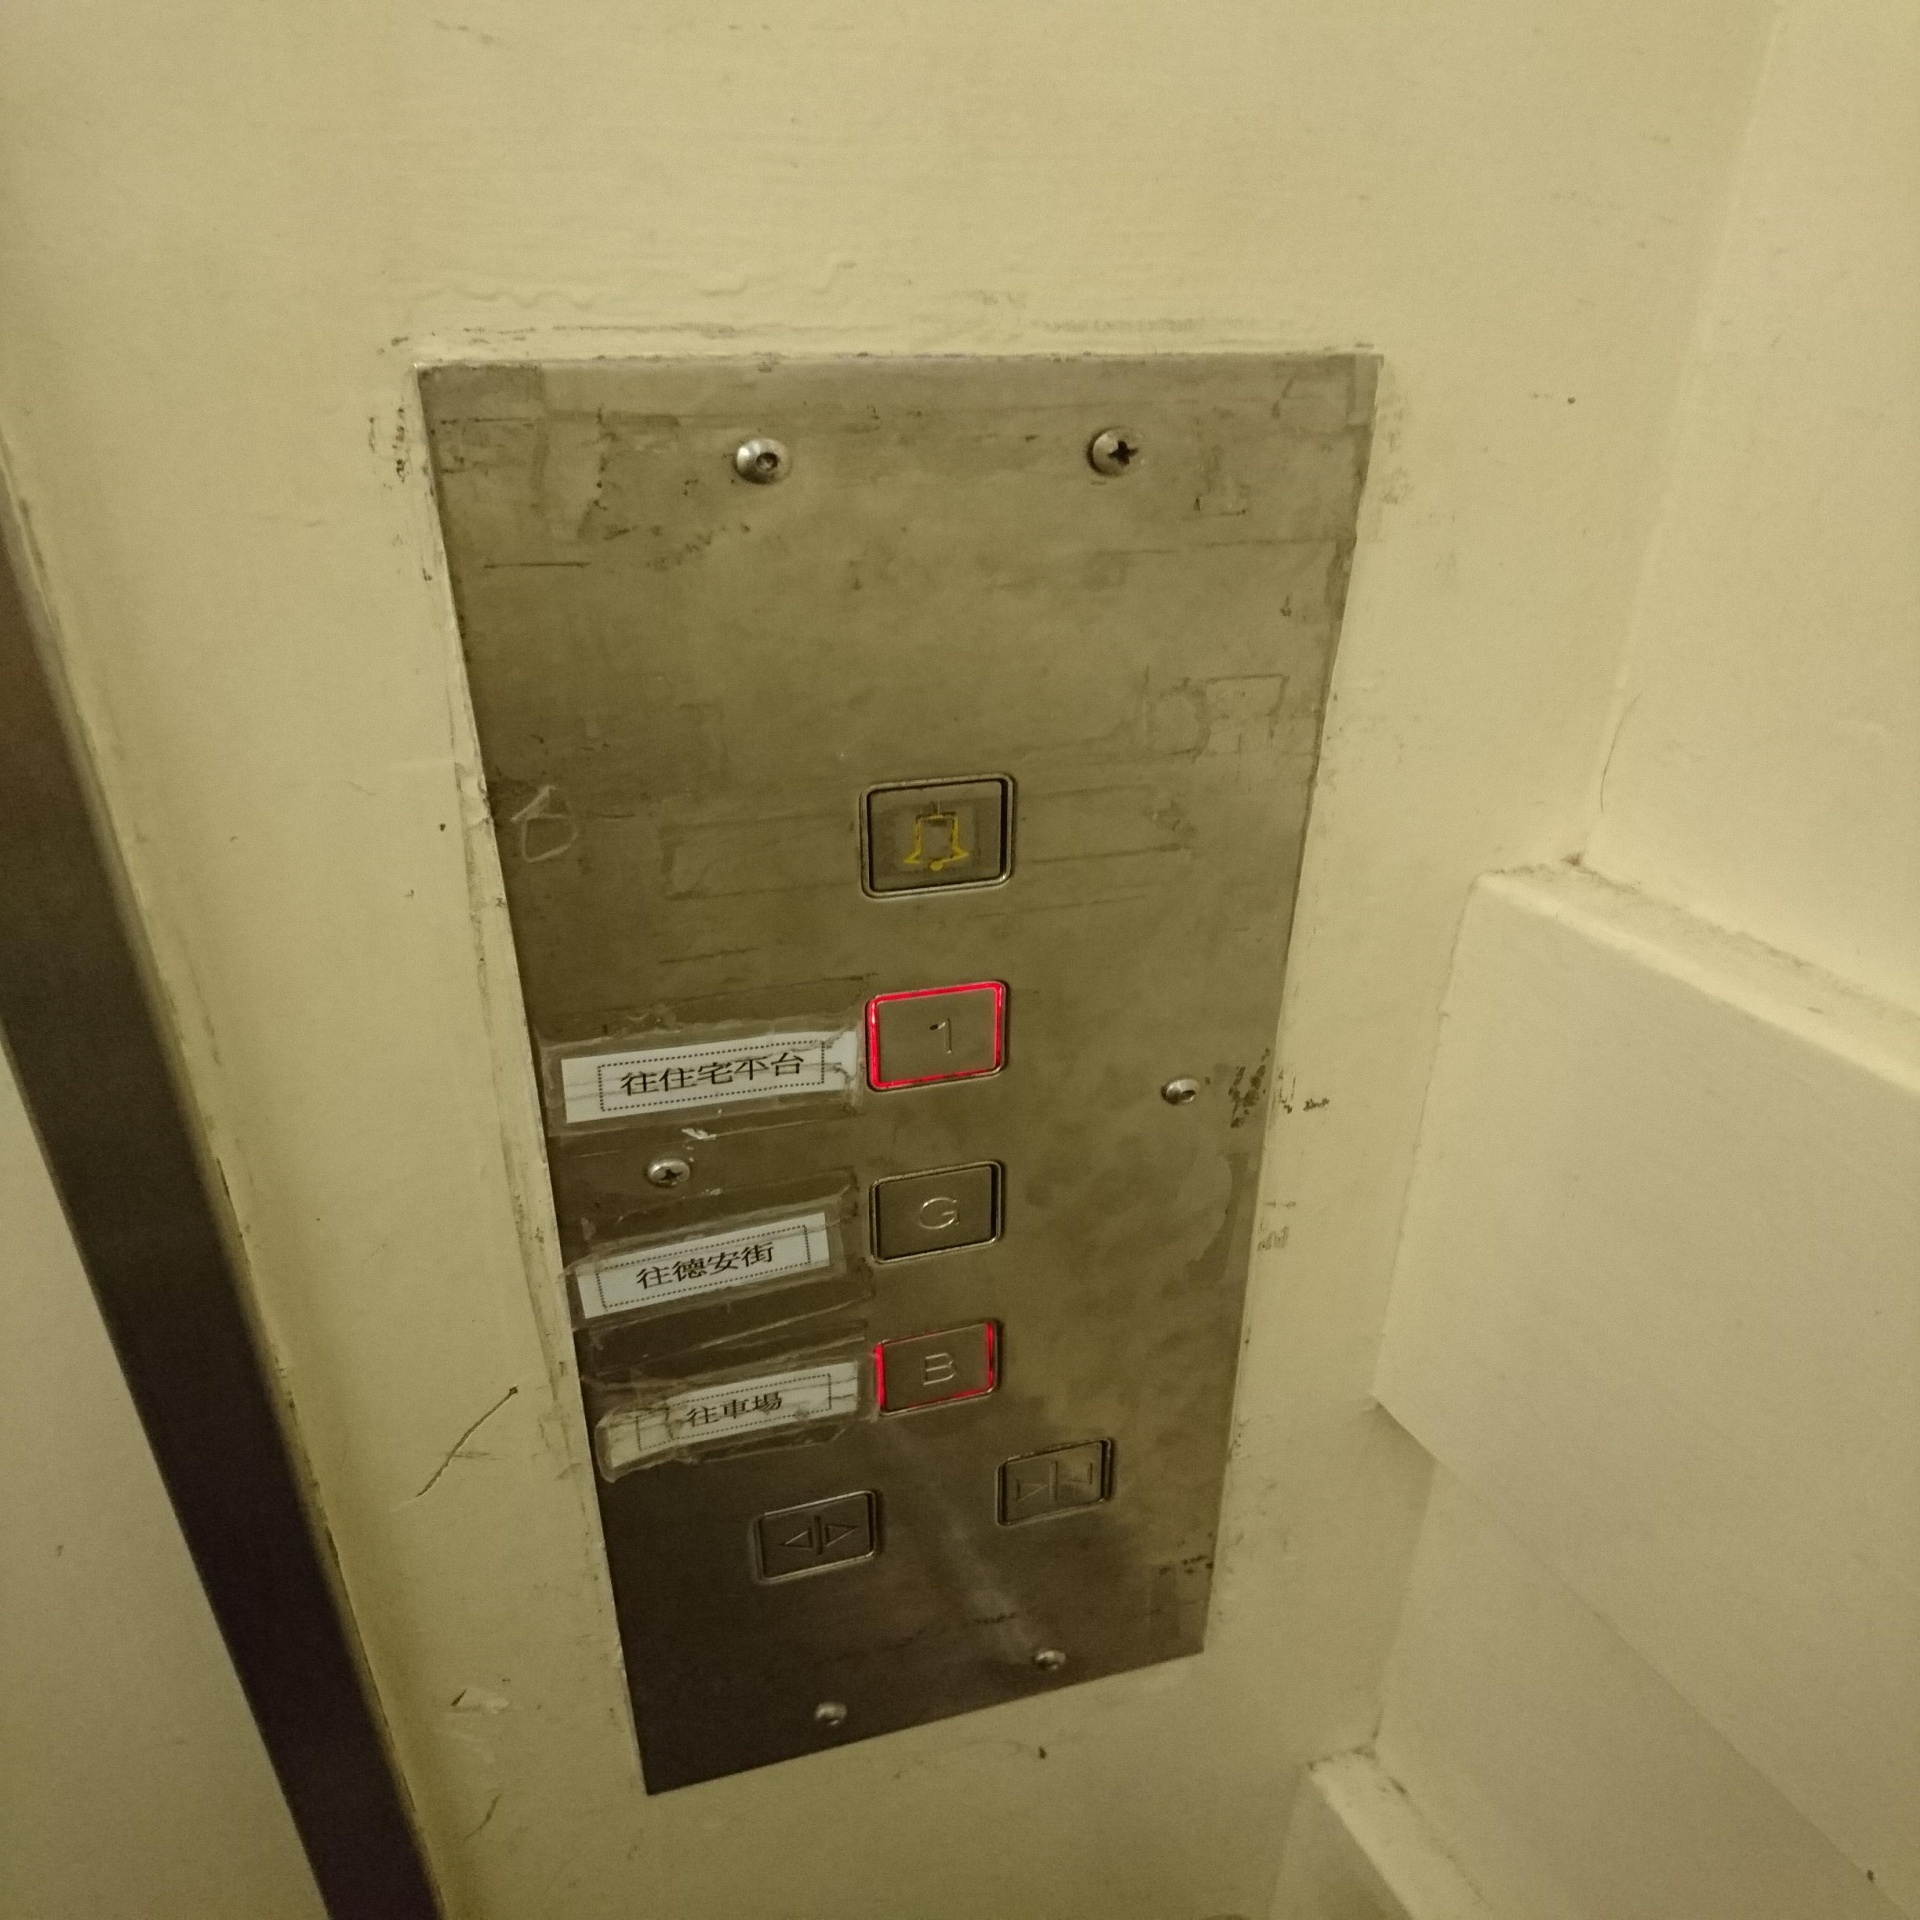1: (867, 976, 1009, 1097)
B: (869, 1317, 1006, 1424)
G: (863, 1157, 1007, 1271)
alarm: (858, 770, 1020, 905)
close: (992, 1429, 1122, 1535)
open: (747, 1480, 886, 1589)
